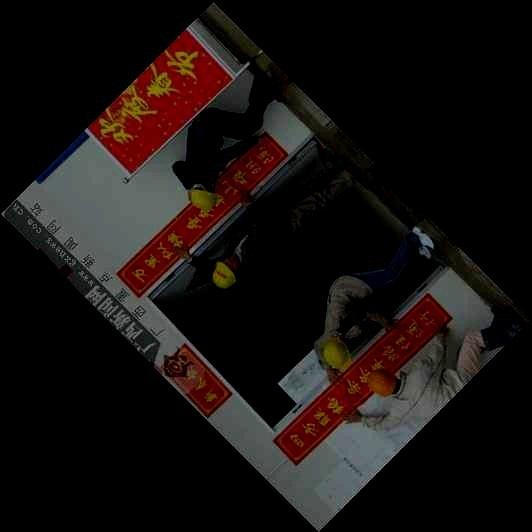helmet: (321, 336, 350, 371), (211, 255, 240, 289), (366, 368, 397, 397), (188, 183, 217, 210)
